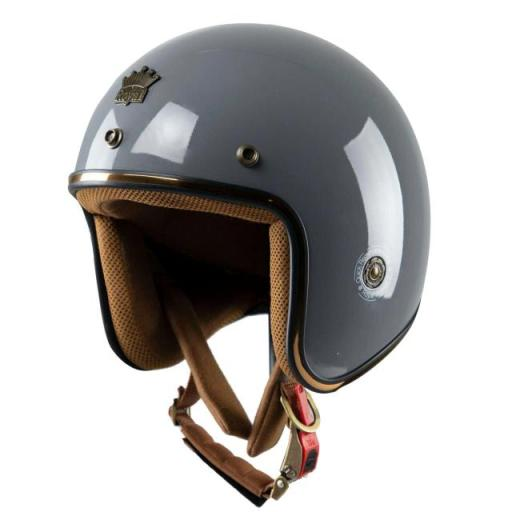with helmet: (62, 16, 460, 503)
